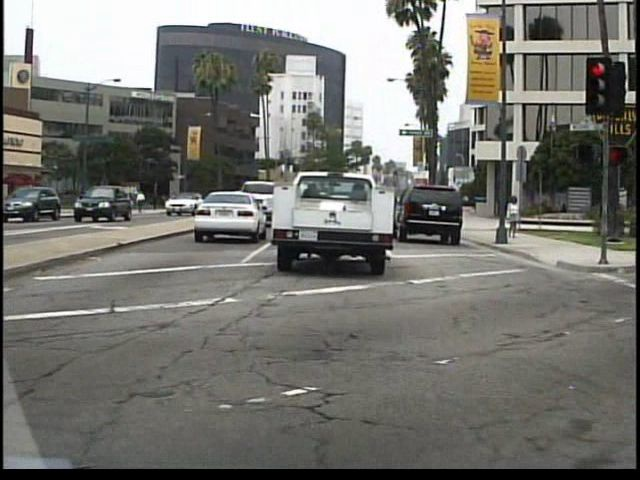person: (504, 190, 522, 240), (134, 186, 150, 218)
